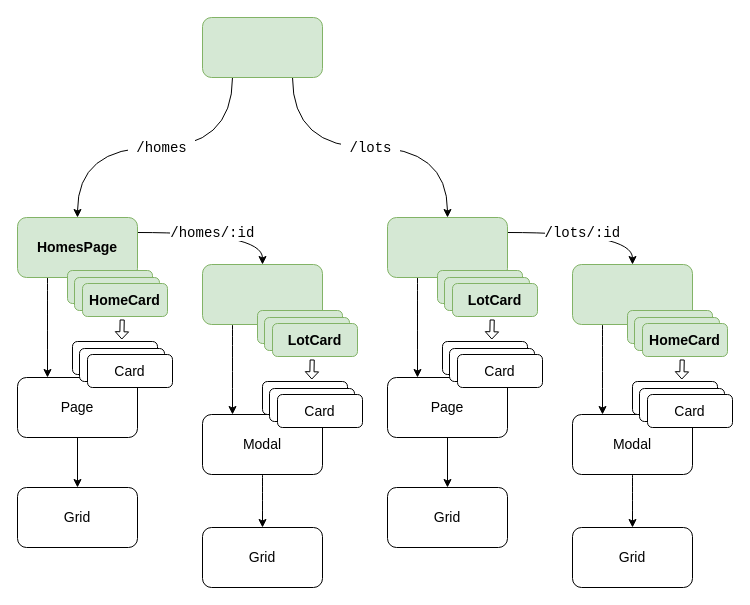
Image size: 750x605. Some labels were removed from this diagram. Each missing label, with the box of its shape:
App: (202, 16, 322, 78)
CompatibleHomesModal: (572, 264, 692, 324)
CompatibleLotsModal: (202, 264, 322, 324)
LotsPage: (386, 216, 508, 278)
